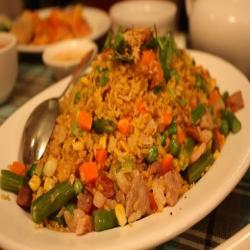rice: (30, 39, 233, 217)
